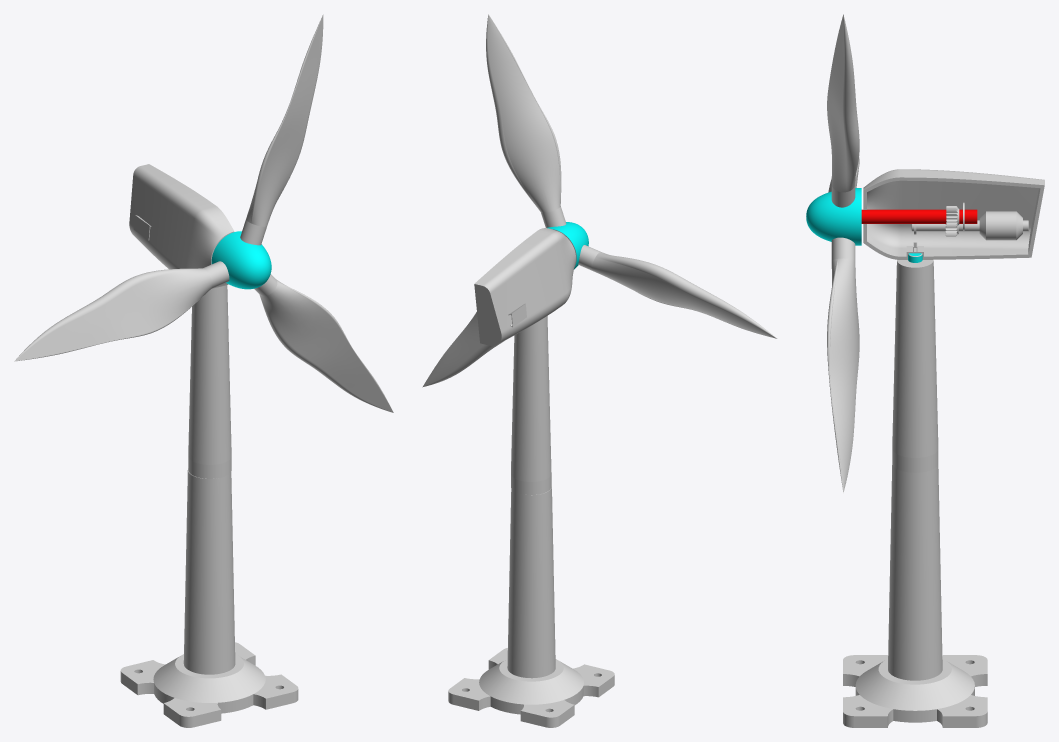
Rendered from turbine.glb.
The picture shows the model from 3 angles, left to right: view 1: azimuth 30°, elevation 25°; view 2: azimuth 150°, elevation 25°; view 3: azimuth 270°, elevation 25°; orthographic projection. The views are drawn at different scales.
Visible parts, largest first — view 1: Horizontal Axix Wind Turbine, 2. Lower Mast-1, 6.Blade-4, 1.Base-1, 3. Upper Mast-1, 5.Nacelle-1, 4. Hub-2; view 2: Horizontal Axix Wind Turbine, 2. Lower Mast-1, 5.Nacelle-1, 1.Base-1, 3. Upper Mast-1, 6.Blade-4, 4. Hub-2; view 3: 5.Nacelle-1, 2. Lower Mast-1, Horizontal Axix Wind Turbine, 3. Upper Mast-1, 1.Base-1, 4. Hub-2, 10.Main Shaft-1, 7.Generator-1, 9.Generator Shaft-1.
Part boxes in pixels (<box>): Horizontal Axix Wind Turbine: <box>240,14,393,412</box>; 2. Lower Mast-1: <box>183,468,235,674</box>; 6.Blade-4: <box>14,261,229,361</box>; 1.Base-1: <box>120,642,298,727</box>; 3. Upper Mast-1: <box>188,285,231,478</box>; 5.Nacelle-1: <box>129,164,234,288</box>; 4. Hub-2: <box>211,231,271,289</box>; Horizontal Axix Wind Turbine: <box>422,14,566,387</box>; 2. Lower Mast-1: <box>507,486,555,678</box>; 5.Nacelle-1: <box>474,228,575,345</box>; 1.Base-1: <box>448,648,614,727</box>; 3. Upper Mast-1: <box>511,316,551,494</box>; 6.Blade-4: <box>578,245,776,338</box>; 4. Hub-2: <box>547,222,588,269</box>; 5.Nacelle-1: <box>863,169,1044,259</box>; 2. Lower Mast-1: <box>888,464,942,680</box>; Horizontal Axix Wind Turbine: <box>827,14,859,492</box>; 3. Upper Mast-1: <box>892,259,938,472</box>; 1.Base-1: <box>843,655,987,727</box>; 4. Hub-2: <box>806,188,861,245</box>; 10.Main Shaft-1: <box>861,209,977,223</box>; 7.Generator-1: <box>979,211,1022,240</box>; 9.Generator Shaft-1: <box>911,220,1028,231</box>.
Size of the model in its own units: 0.3226 by 0.5532 by 0.1651.
